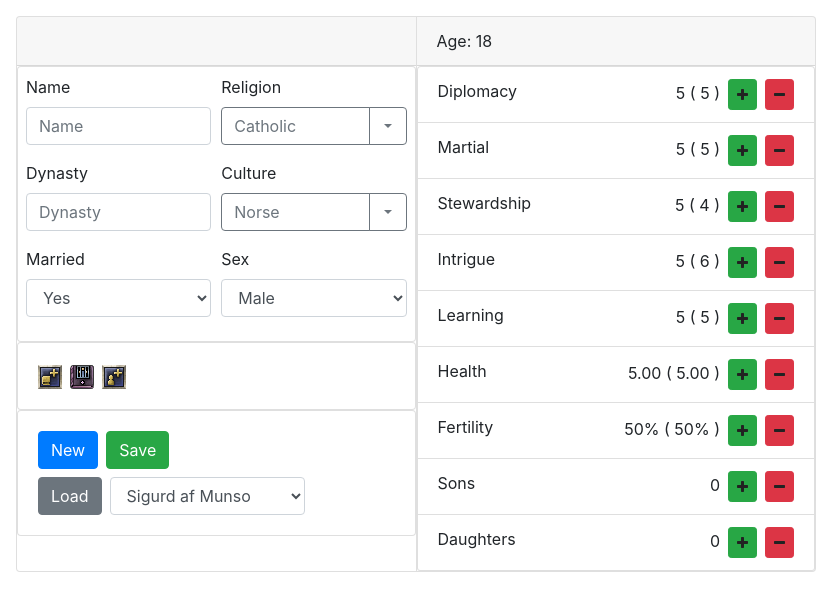
can set marriage status to false and it decreases age by two
Select "No" in the dropdown labelled "Married". click: x=119, y=298
box: [26,279,211,317]
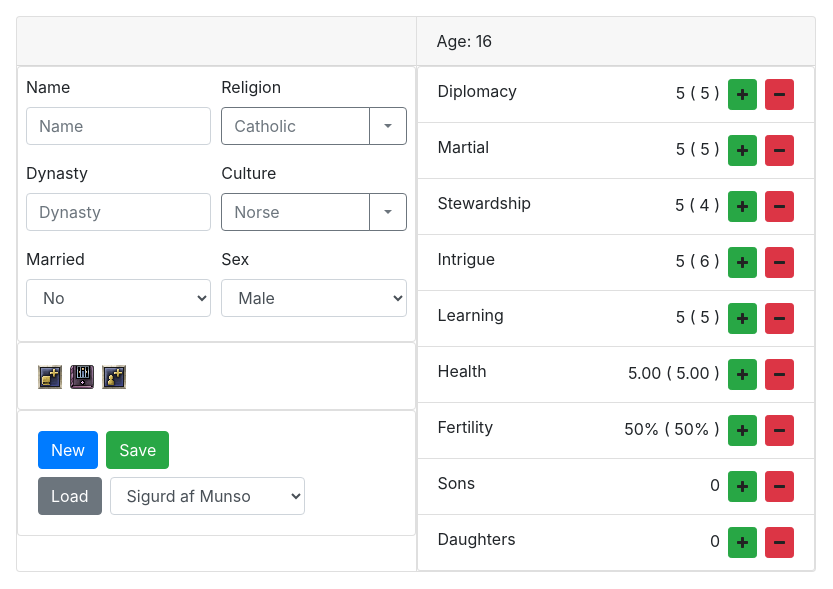
Check: the text labelled "Age" reads "Age: 16", box [416,17,815,66]
